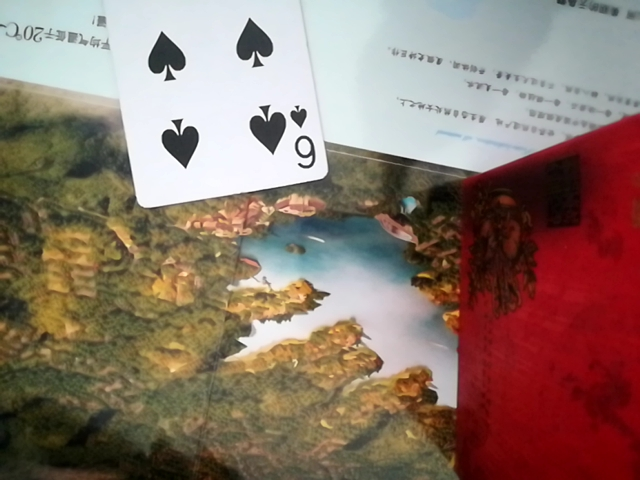ht 6: (106, 0, 328, 211)
